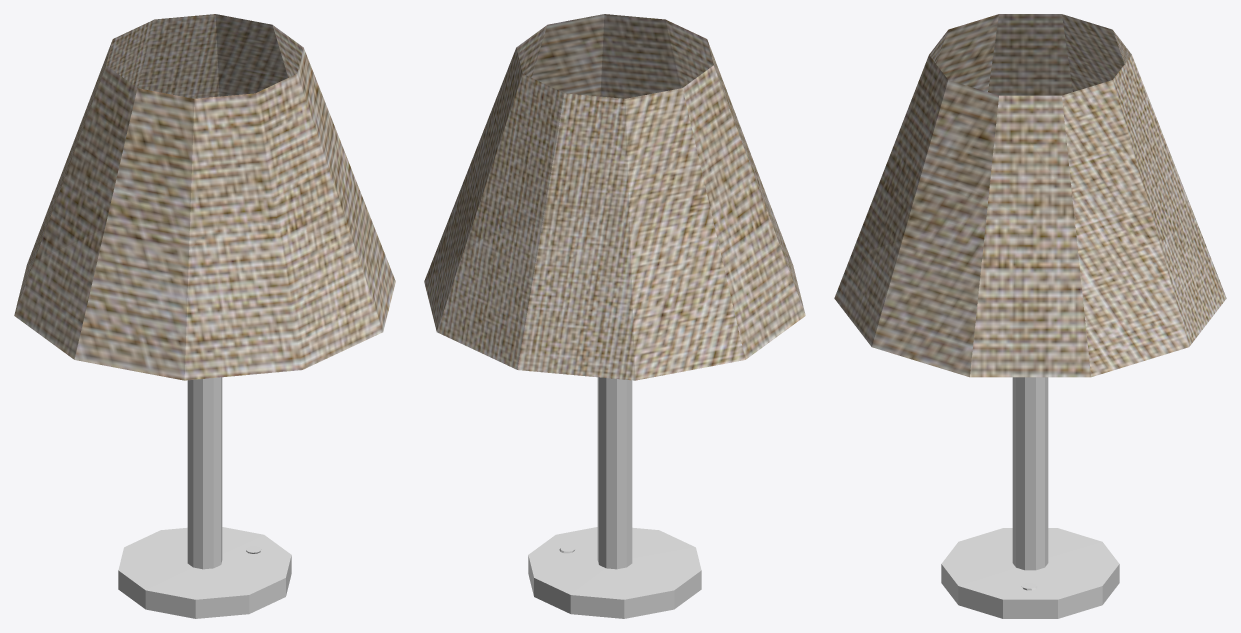
The model's file is bedlamp2.fbx.
The picture shows the model from 3 angles, left to right: view 1: azimuth 30°, elevation 25°; view 2: azimuth 150°, elevation 25°; view 3: azimuth 270°, elevation 25°; orthographic projection.
Visible parts, largest first — view 1: Cylinder.001, Cylinder; view 2: Cylinder.001, Cylinder; view 3: Cylinder.001, Cylinder.
Part boxes in pixels (<box>): Cylinder.001: <box>14,14,395,380</box>; Cylinder: <box>118,377,291,618</box>; Cylinder.001: <box>424,14,805,380</box>; Cylinder: <box>528,377,701,618</box>; Cylinder.001: <box>834,14,1226,377</box>; Cylinder: <box>941,377,1119,618</box>.
Bounding box in the file's own units: 114 × 179 × 120.
Materials: 3 (1 with a texture image).
